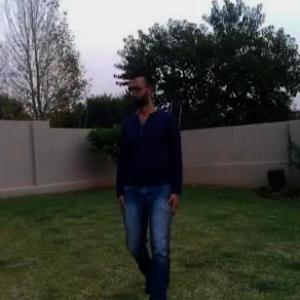follow: (106, 48, 189, 299)
